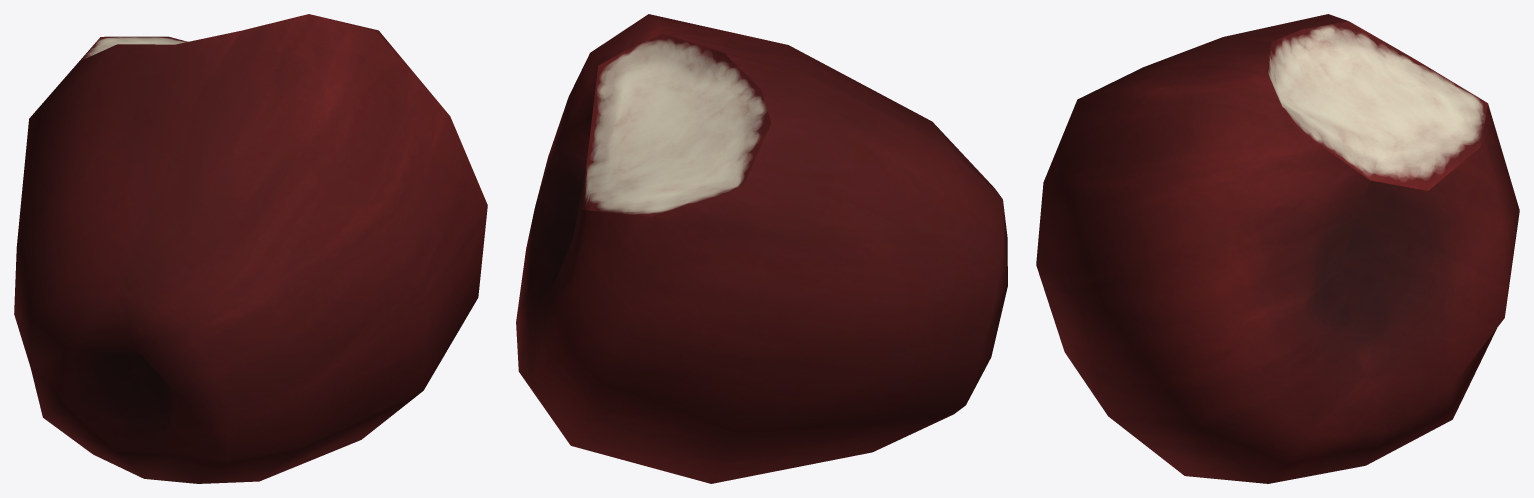
The model's file is Apple.FBX.
3 views of the same model, side by side, from view 1: azimuth 30°, elevation 25°; view 2: azimuth 150°, elevation 25°; view 3: azimuth 270°, elevation 25° (orthographic).
Visible parts, largest first — view 1: Sphere002; view 2: Sphere002; view 3: Sphere002.
Part boxes in pixels (x1,y1,x2,y2): Sphere002: [14, 14, 487, 483]; Sphere002: [516, 14, 1007, 483]; Sphere002: [1036, 14, 1519, 483].
Size of the model in its own units: 31.3 by 27.18 by 29.14.
Materials: 1 (1 with a texture image).
